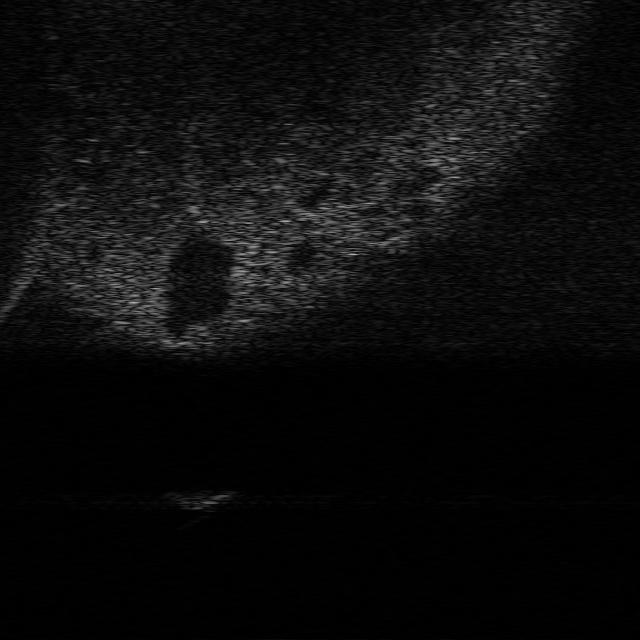cube: (161, 488, 239, 511)
